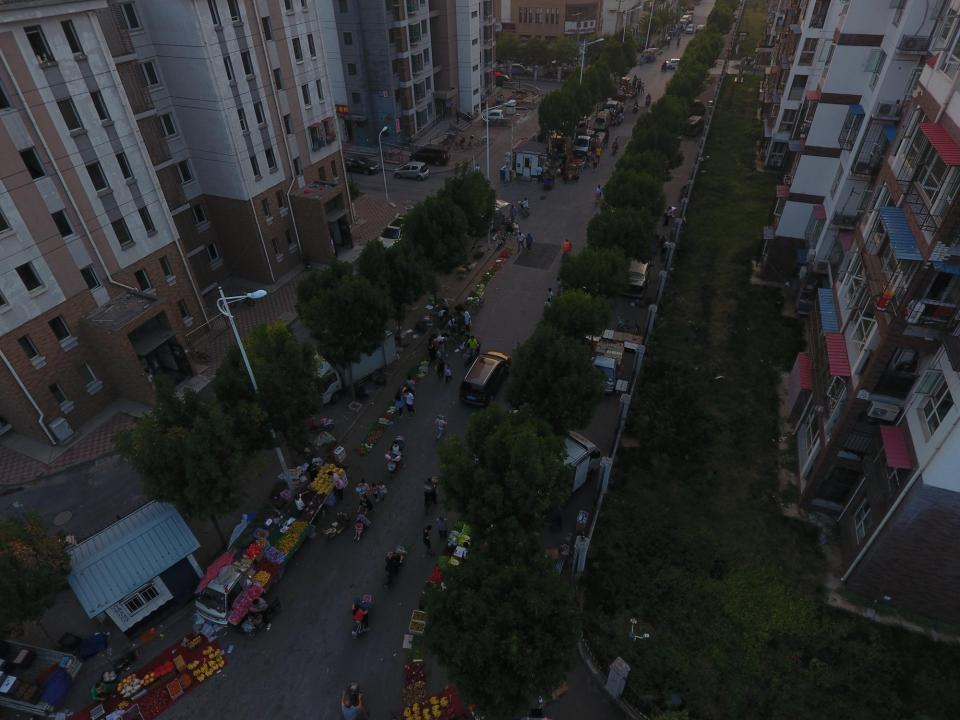car: (459, 350, 511, 408), (592, 330, 628, 395), (375, 217, 411, 251), (337, 154, 380, 175), (410, 144, 450, 166), (394, 161, 430, 180), (486, 74, 514, 86), (508, 64, 534, 76), (485, 109, 504, 120), (685, 24, 694, 35), (696, 25, 704, 34), (686, 14, 693, 24)
truck: (196, 514, 316, 618), (498, 432, 602, 518), (295, 324, 397, 408), (0, 638, 83, 717), (569, 129, 605, 159), (547, 124, 567, 158)
van: (457, 203, 503, 235), (622, 255, 651, 298), (560, 114, 588, 136), (678, 99, 706, 116), (684, 115, 705, 136), (542, 60, 572, 74), (593, 111, 611, 130), (603, 100, 621, 118), (666, 59, 688, 69), (678, 18, 686, 30), (681, 14, 688, 24)
